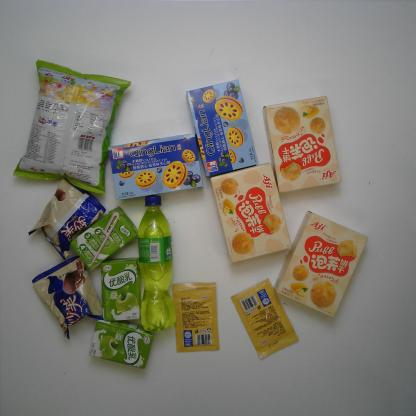Dessert: (275, 209, 370, 316), (212, 162, 292, 264), (262, 95, 344, 194), (184, 77, 263, 176), (26, 181, 109, 261), (32, 257, 107, 339), (108, 137, 204, 200)
Drink: (140, 193, 180, 337)
Milk: (76, 205, 141, 269), (87, 319, 157, 370), (96, 256, 146, 324)
Puffed Food: (15, 59, 133, 196)
Seasoner: (230, 278, 302, 362), (172, 278, 222, 358)
